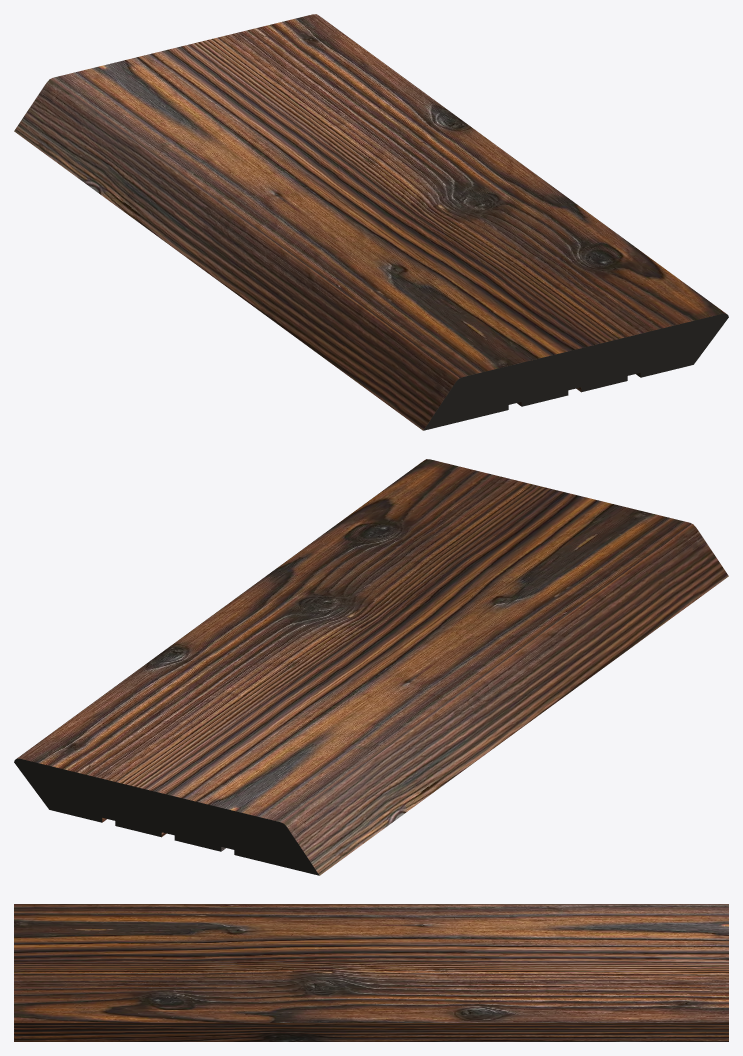
File: spruce-facade-rhombus-natural.glb
The picture shows the model from 3 angles, top to bottom: view 1: azimuth 30°, elevation 25°; view 2: azimuth 150°, elevation 25°; view 3: azimuth 270°, elevation 25°; orthographic projection. The views are drawn at different scales.
Visible parts, largest first — view 1: Rombas; view 2: Rombas; view 3: Rombas.
Part boxes in pixels (box(x1,y1,x2,y2)): Rombas: box(14, 14, 728, 430); Rombas: box(14, 459, 728, 875); Rombas: box(14, 904, 728, 1041).
Bounding box in the file's own units: 0.0723 × 0.00995 × 0.1675.
3 materials, 1 textured.
